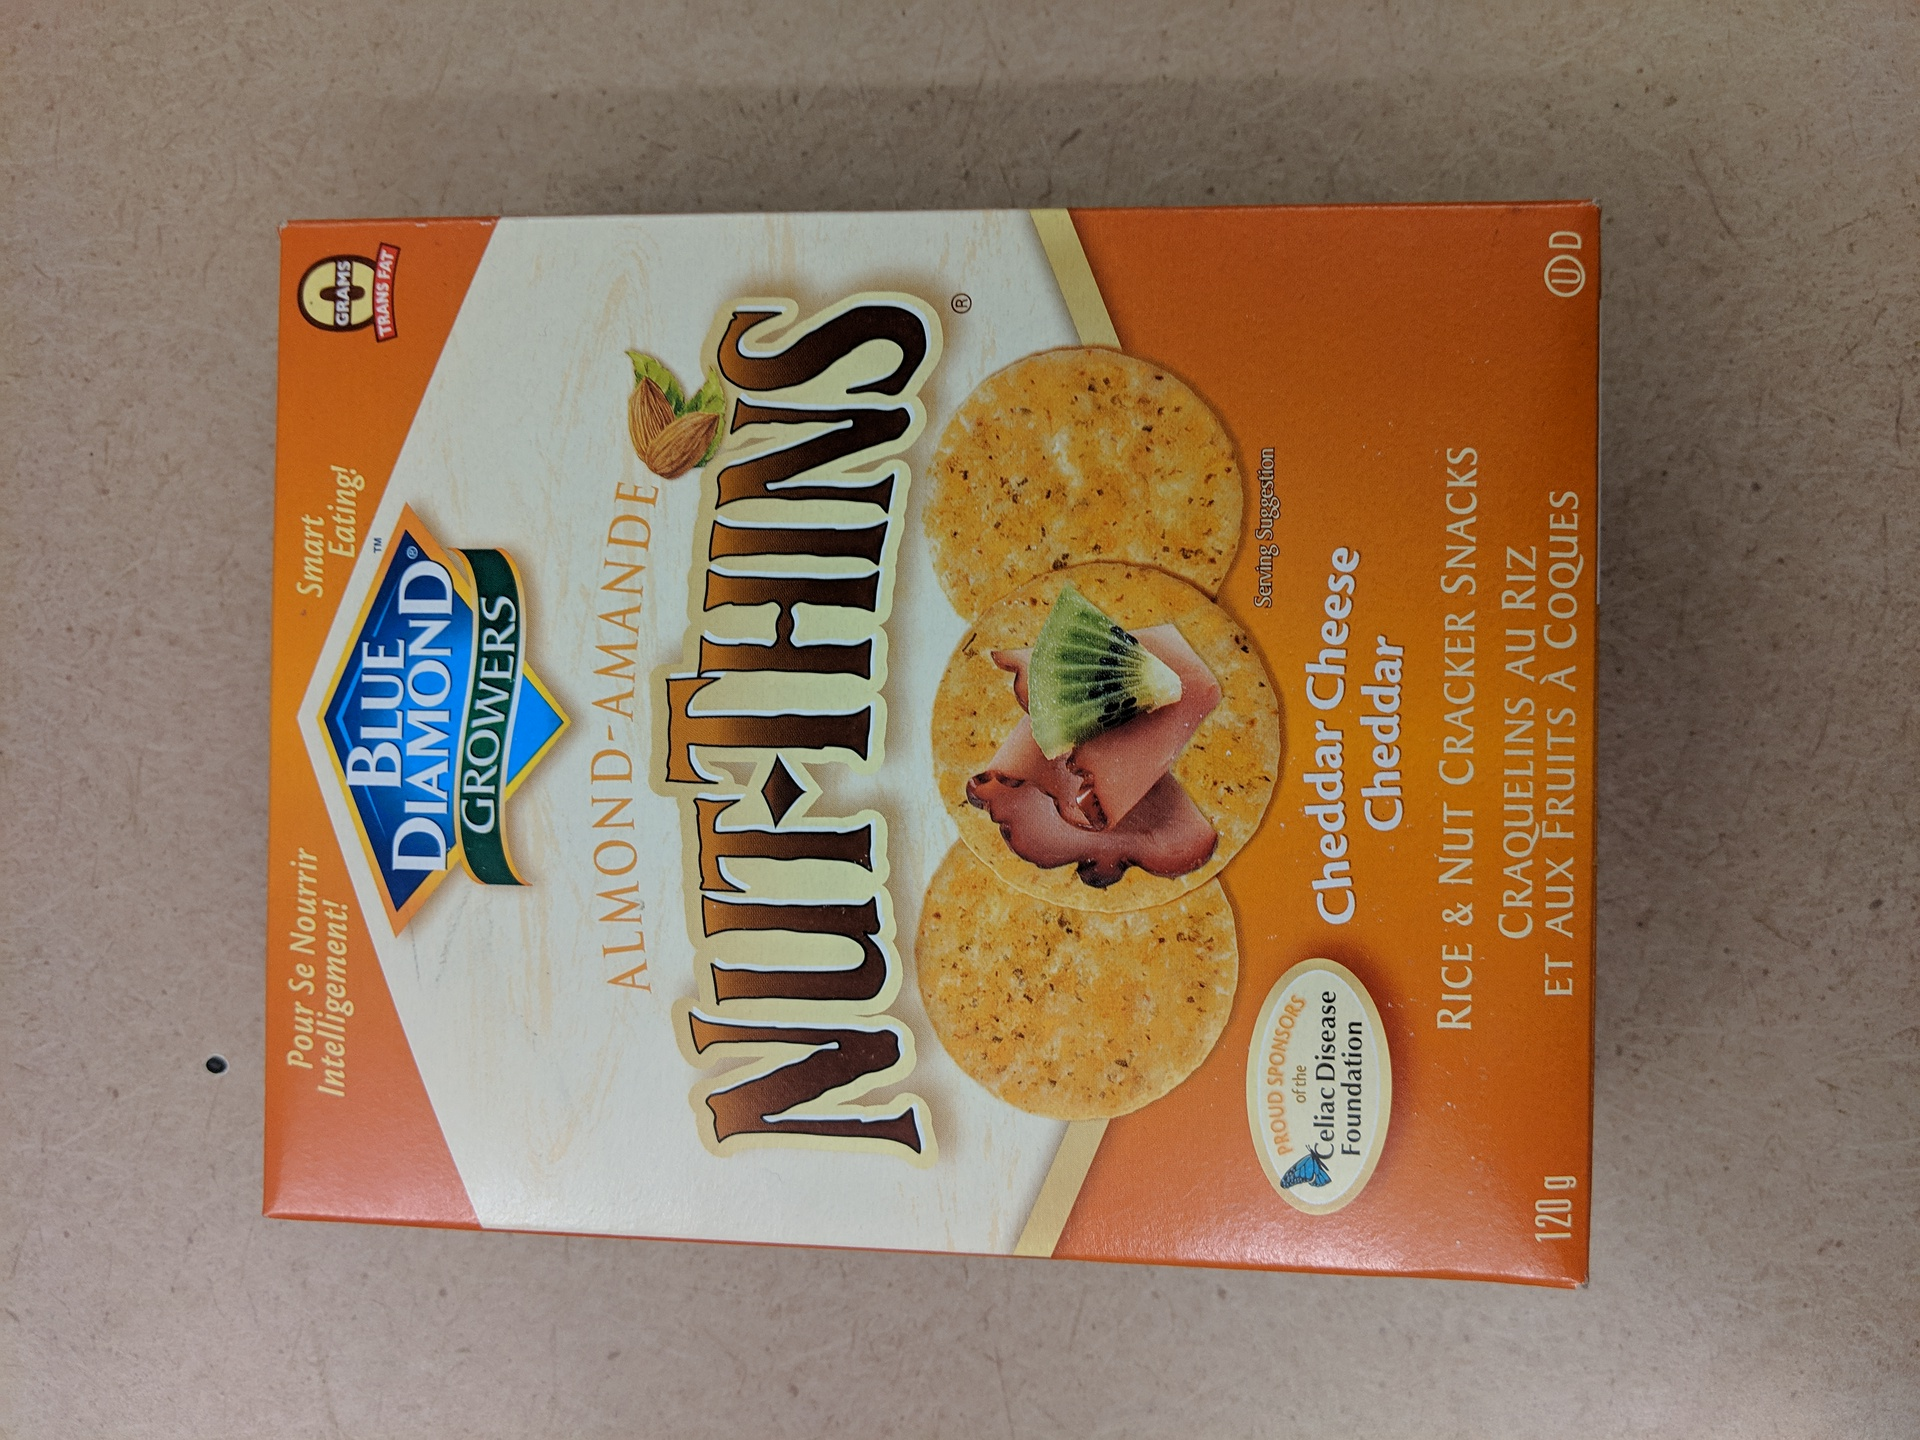blue_diamond_nut_thins_almond_cheddar: (251, 178, 1625, 1317)
